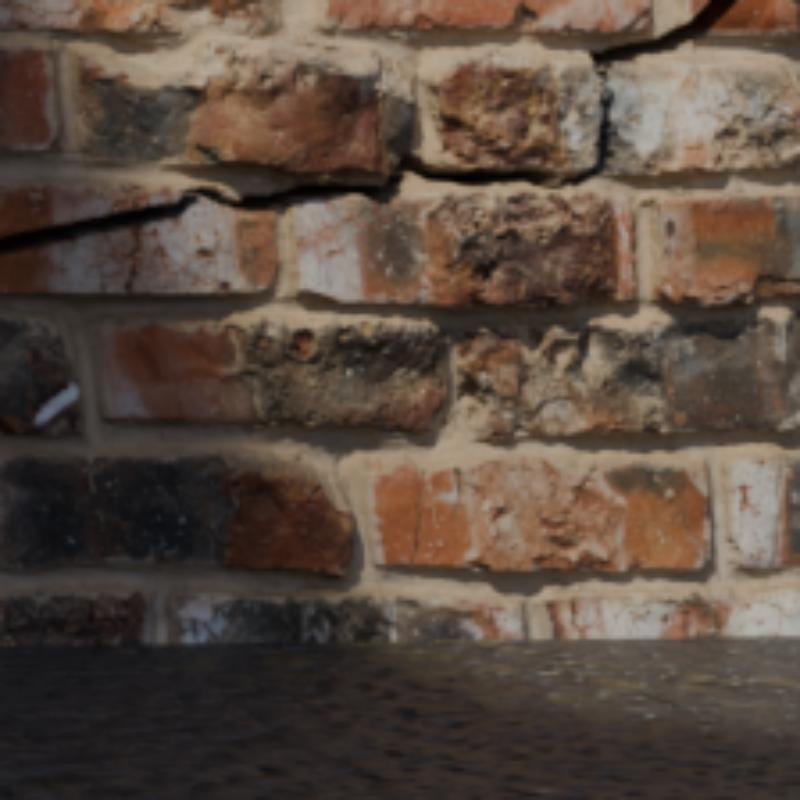pothole: (0, 0, 736, 254)
